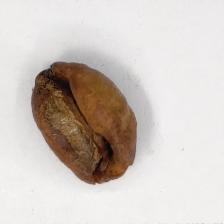NG: (31, 70, 103, 185)
